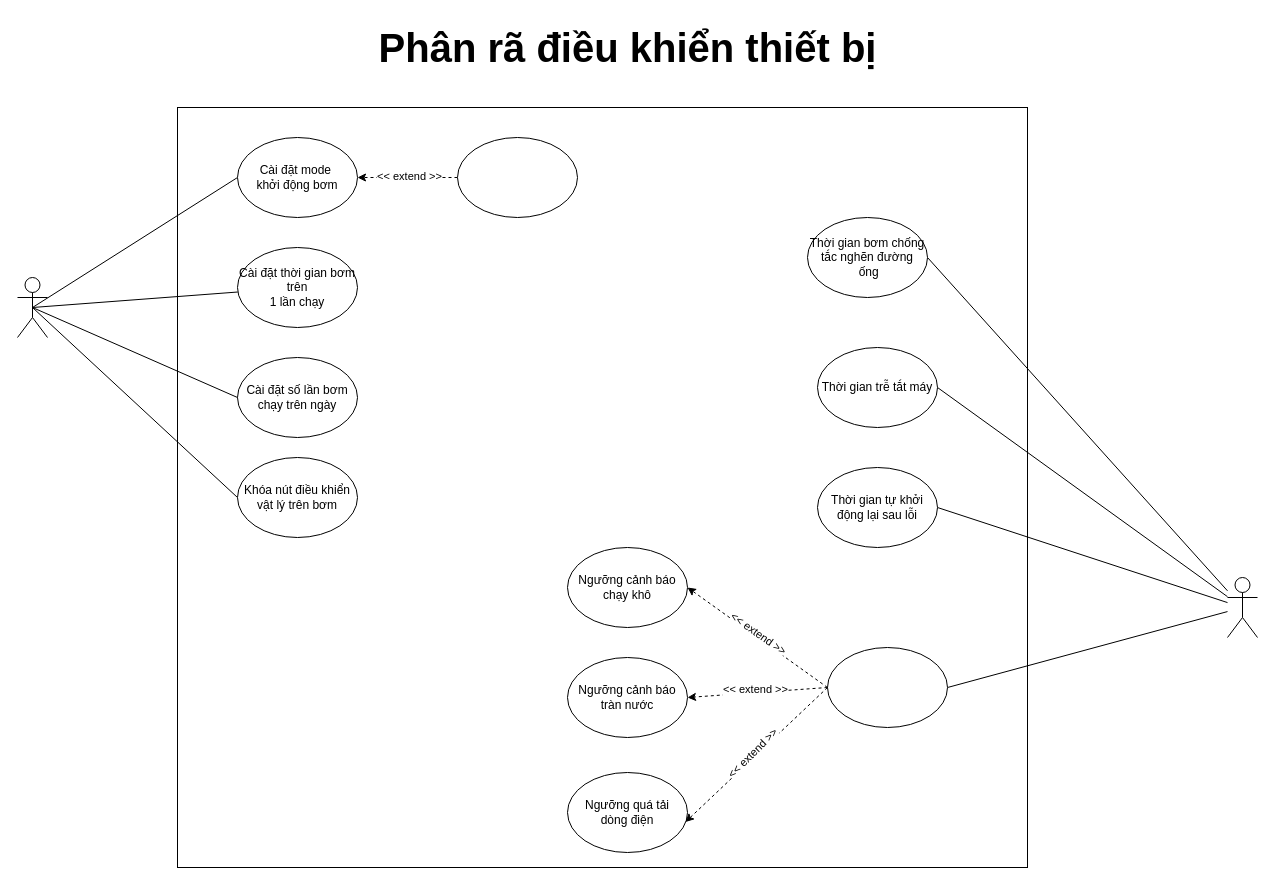
Some shapes in this 1284 by 885 pixel diagram are drawn without their labels. The shapes that lost their labels are listed below. From the top down, each one's centre as x and y in pixels, then its label:
At point 517,177: "Cài đặt thời gian bắt đầu chạy bơm".
At point 32,307: "User".
At point 1242,607: "Engineer".
At point 887,687: "Cài đặt ngưỡng cảnh báo cho bơm".
